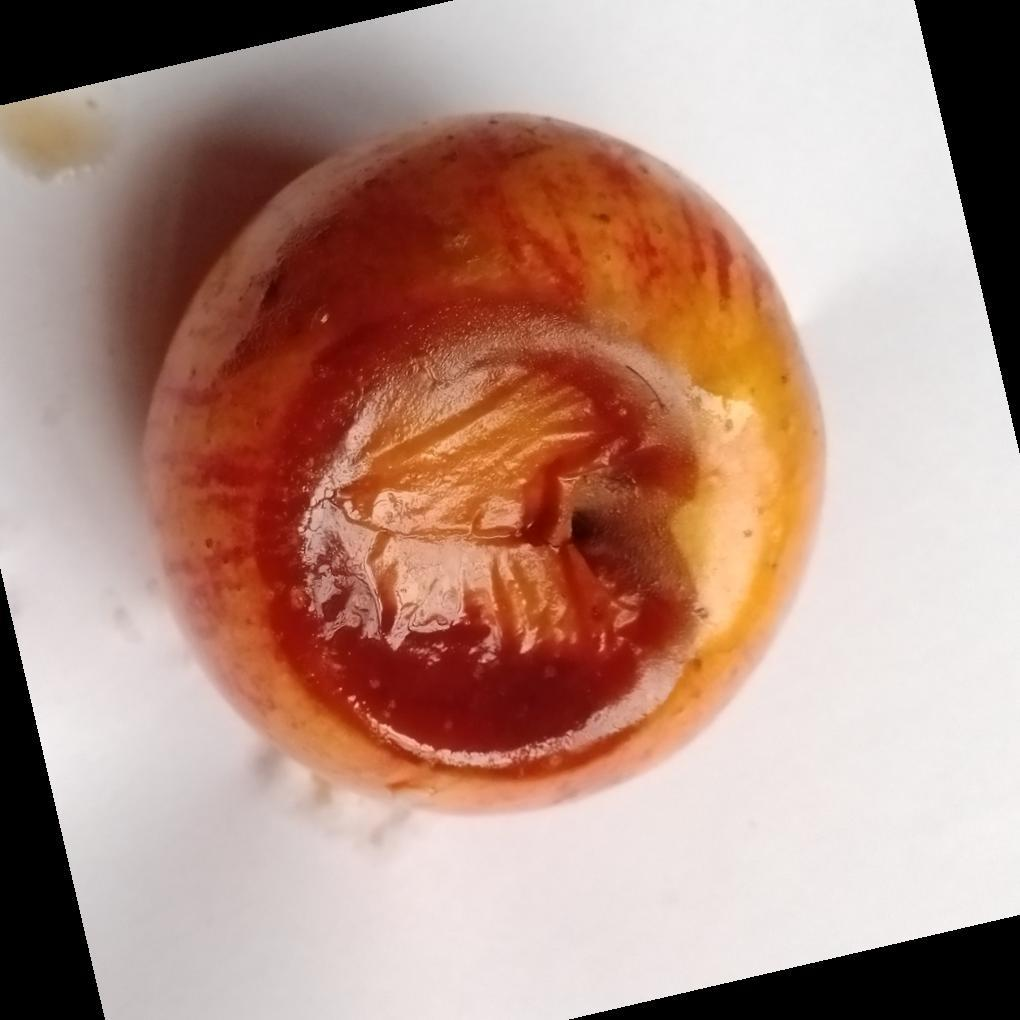FreshOrange: (139, 113, 830, 818)
